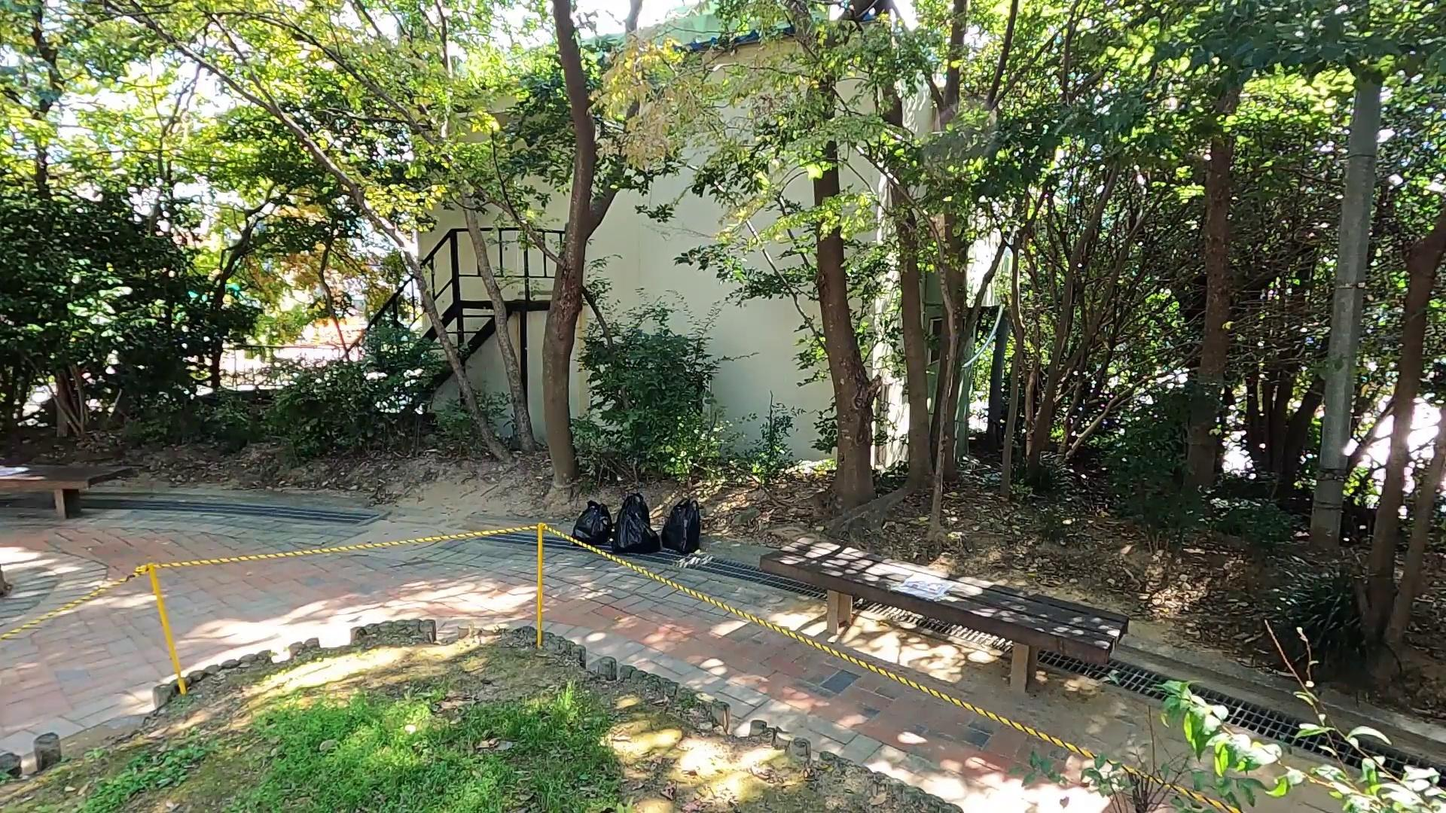trash: (660, 498, 702, 553), (570, 501, 612, 546), (617, 495, 651, 550), (615, 515, 661, 555)
